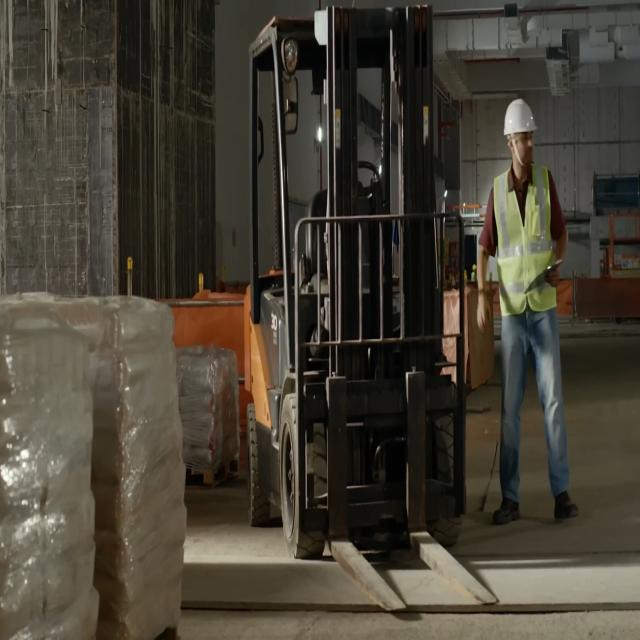Boots: (551, 483, 578, 526), (490, 498, 524, 528)
Helmet: (504, 96, 540, 136)
Vest: (491, 164, 556, 313)
